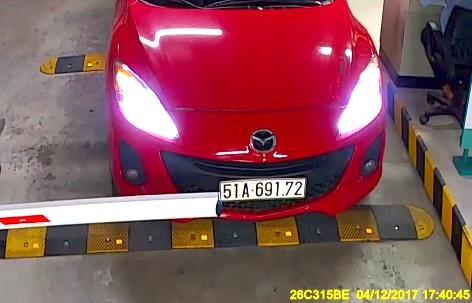plate: (218, 175, 305, 200)
